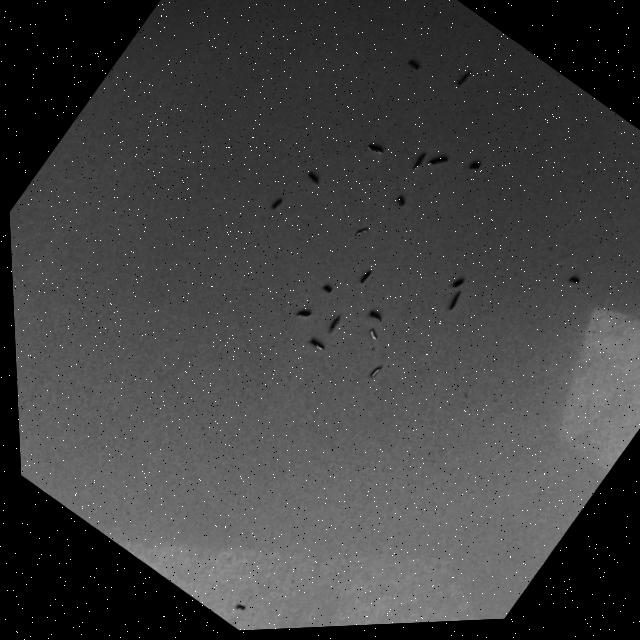Wereng: (436, 284, 473, 323), (419, 143, 453, 177), (403, 142, 436, 176), (447, 62, 478, 96), (321, 305, 351, 338), (302, 331, 331, 360), (361, 359, 389, 388), (361, 135, 389, 162), (359, 321, 386, 348), (289, 300, 315, 327), (267, 188, 292, 214), (302, 163, 327, 189), (348, 217, 372, 243), (562, 268, 587, 292), (228, 595, 252, 619), (353, 264, 376, 289), (446, 271, 469, 295), (464, 153, 487, 177), (315, 278, 338, 301), (401, 55, 424, 78), (363, 303, 387, 325), (391, 191, 412, 211)
